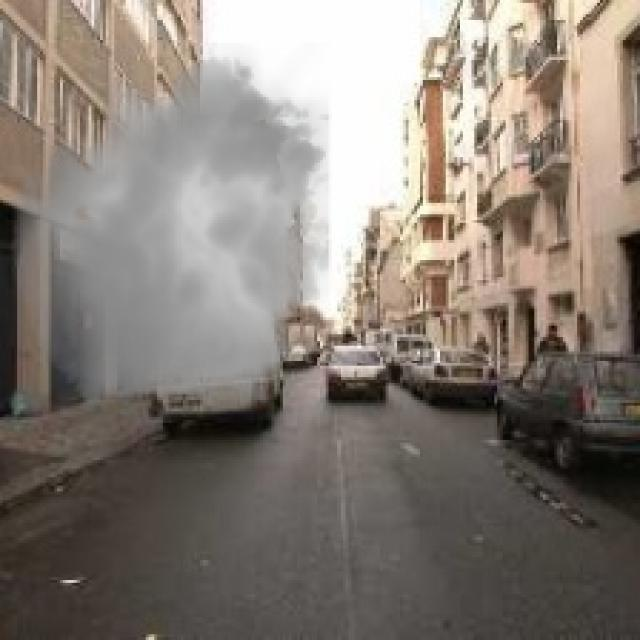Smoke: (0, 43, 346, 423)
